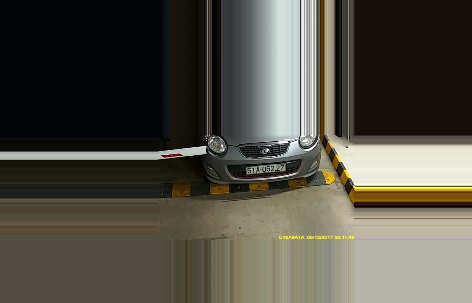plate: (242, 163, 288, 175)
